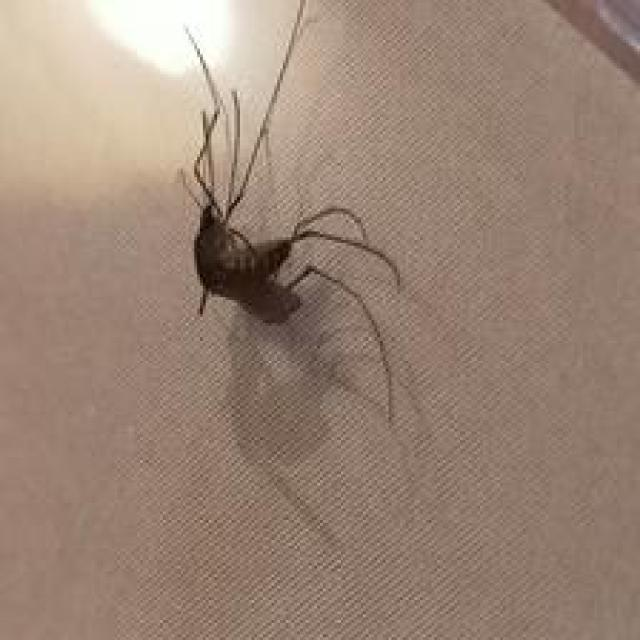Culex: (171, 0, 420, 549)
